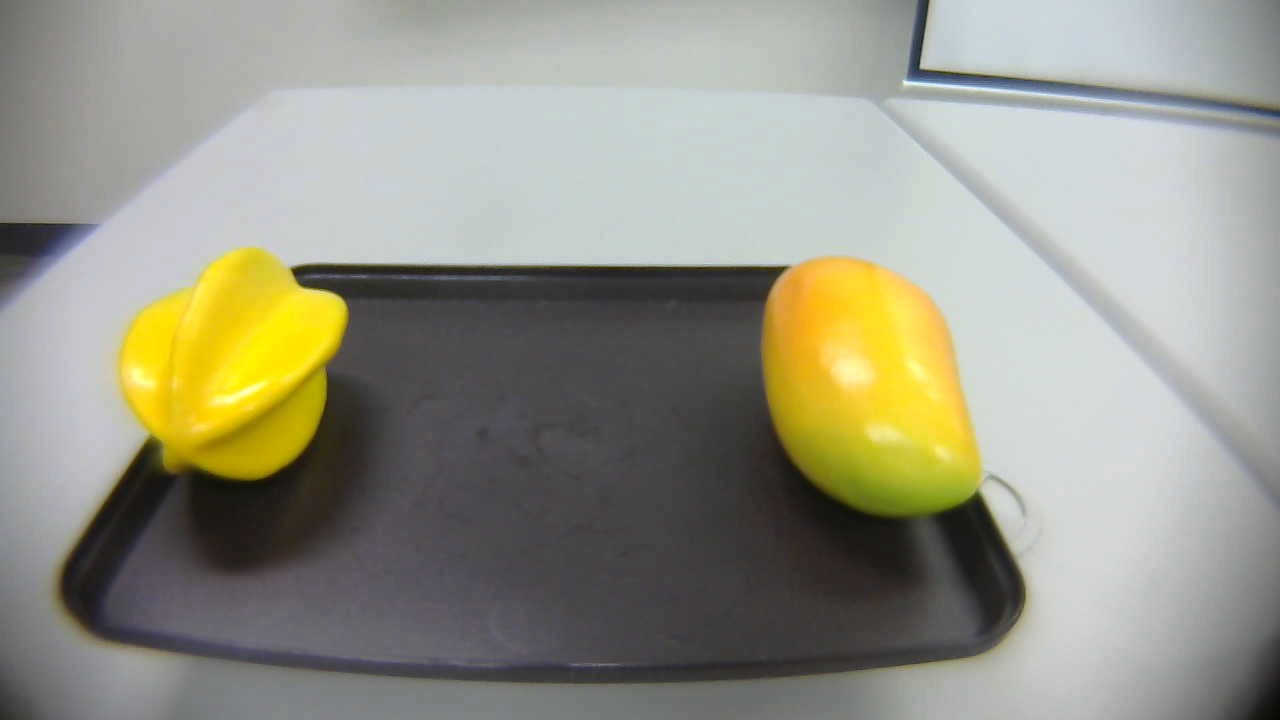star fruit: (118, 243, 351, 493)
yellow mango: (739, 256, 1005, 532)
